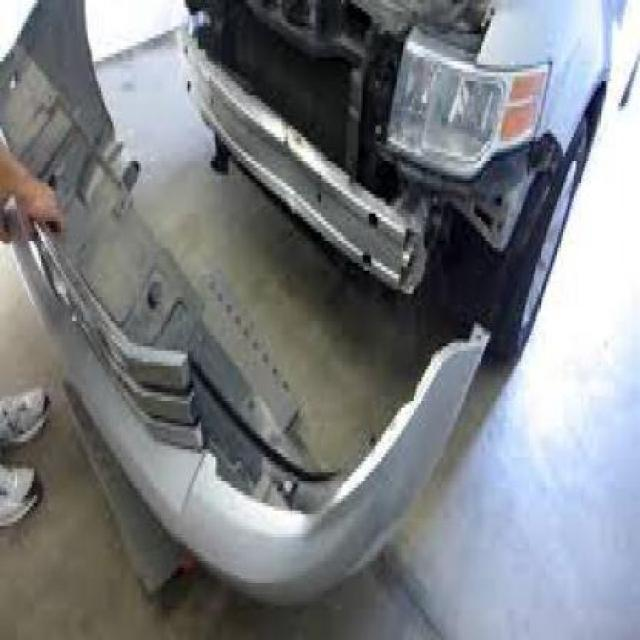damaged-front-bumper: (186, 7, 512, 298)
